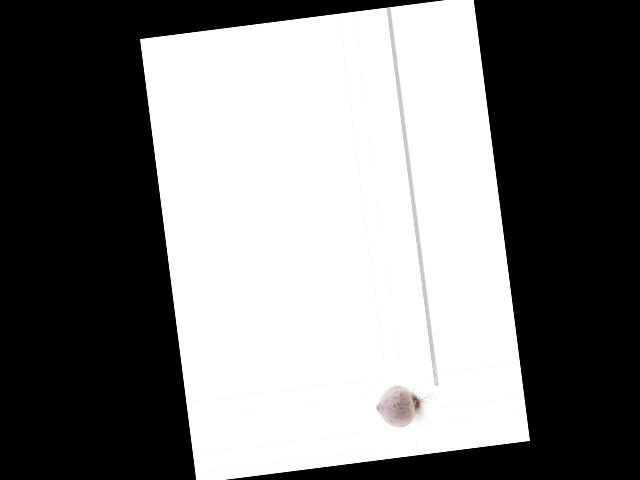beet: (373, 379, 441, 430)
